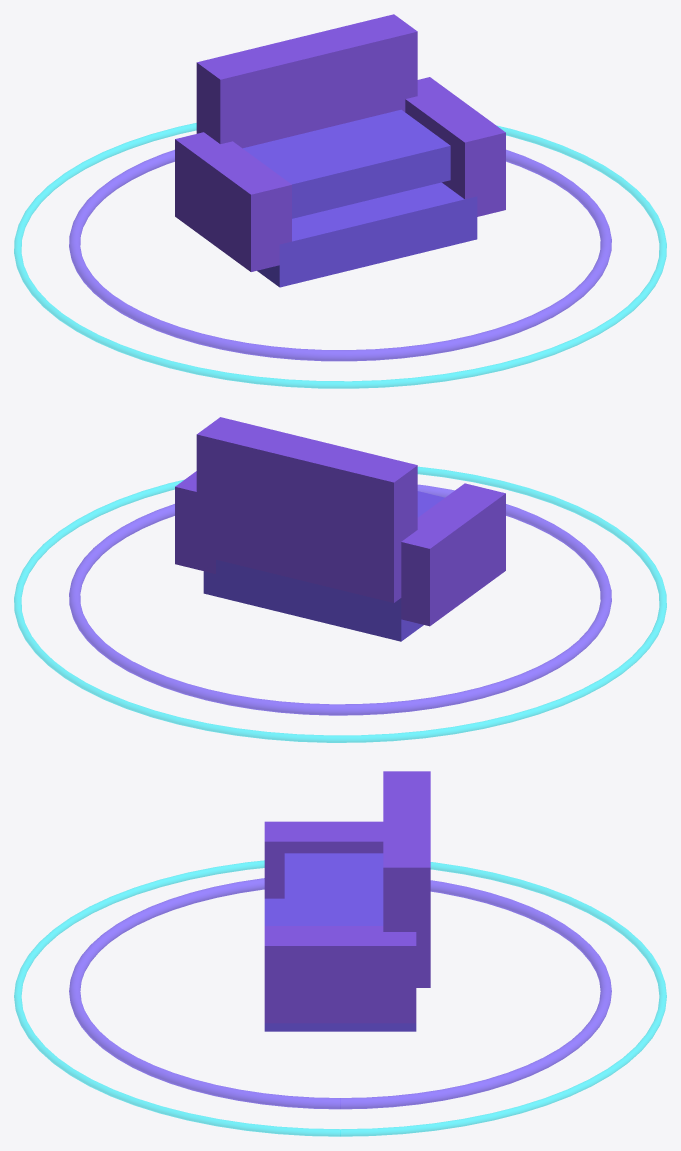
File: lounge.glb
3 views of the same model, one above another, from view 1: azimuth 30°, elevation 25°; view 2: azimuth 150°, elevation 25°; view 3: azimuth 270°, elevation 25° (orthographic).
Size of the model in its own units: 3.44 by 1.05 by 3.44.
